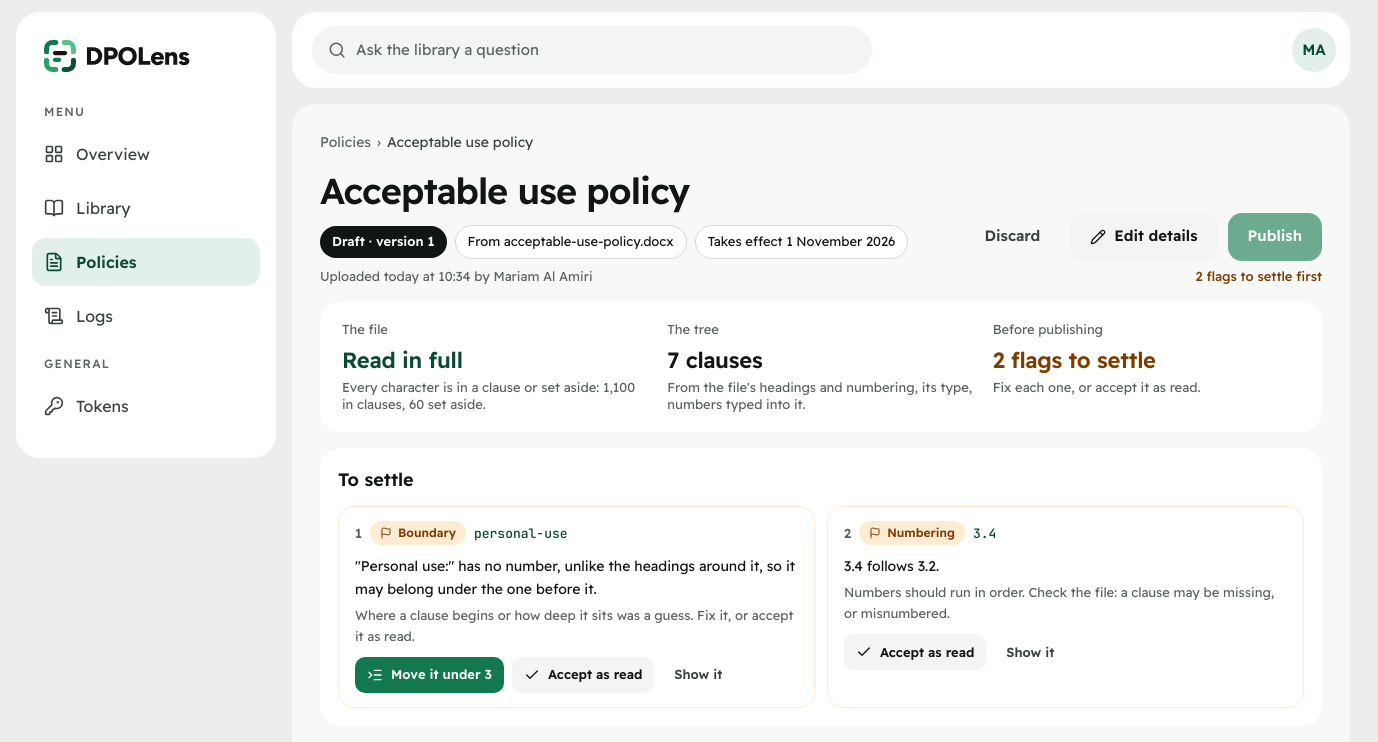
fixing what was read › moves a heading under the one before when its flag suggests it
This screenshot has width=1378, height=742.
Click the button "Move it under 3".
click(430, 675)  # box [355, 657, 504, 693]
(page scrolled)
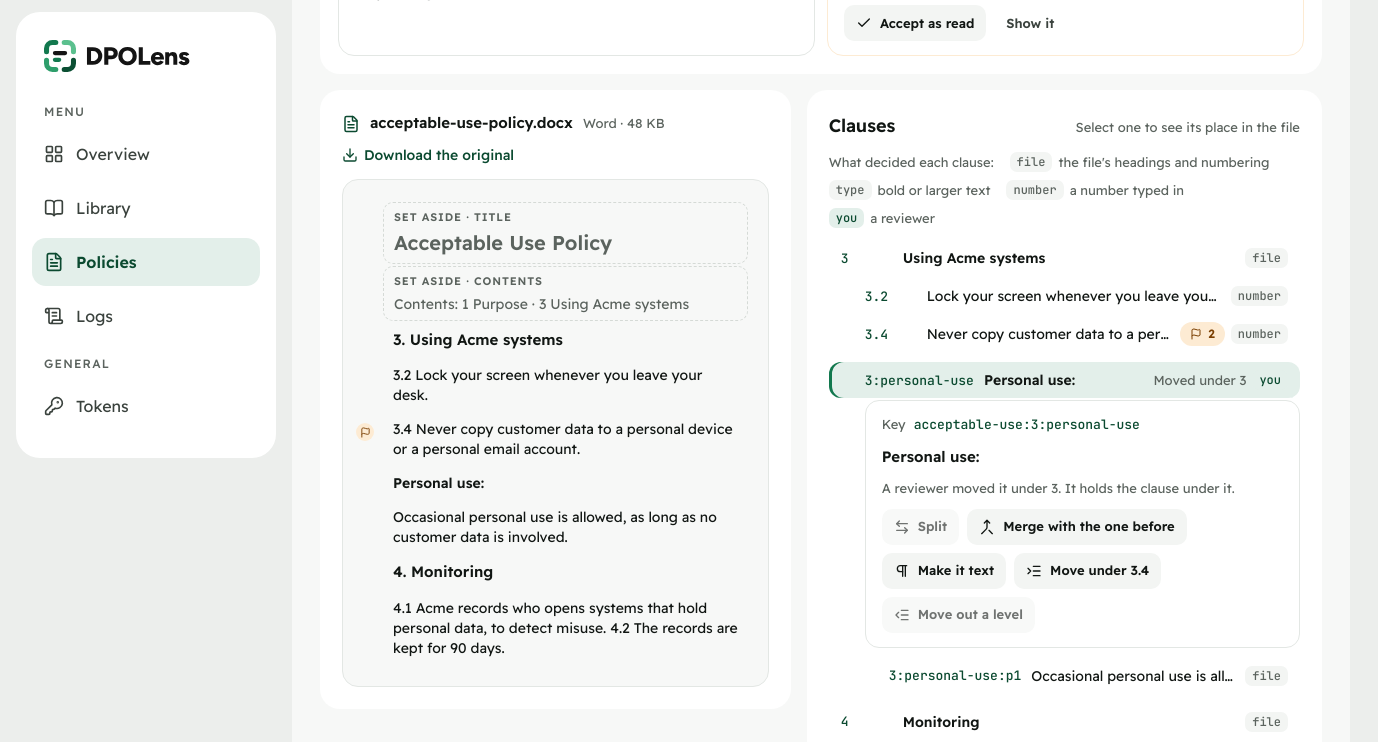
Expected: the text "acceptable-use:3:personal-use" is shown, [914, 415, 1140, 435]
Expected: the text "A reviewer moved it under 3. It holds the clause under it." is shown, [882, 479, 1283, 499]
Expected: the text "Moved under 3" is shown, [1153, 370, 1246, 390]
